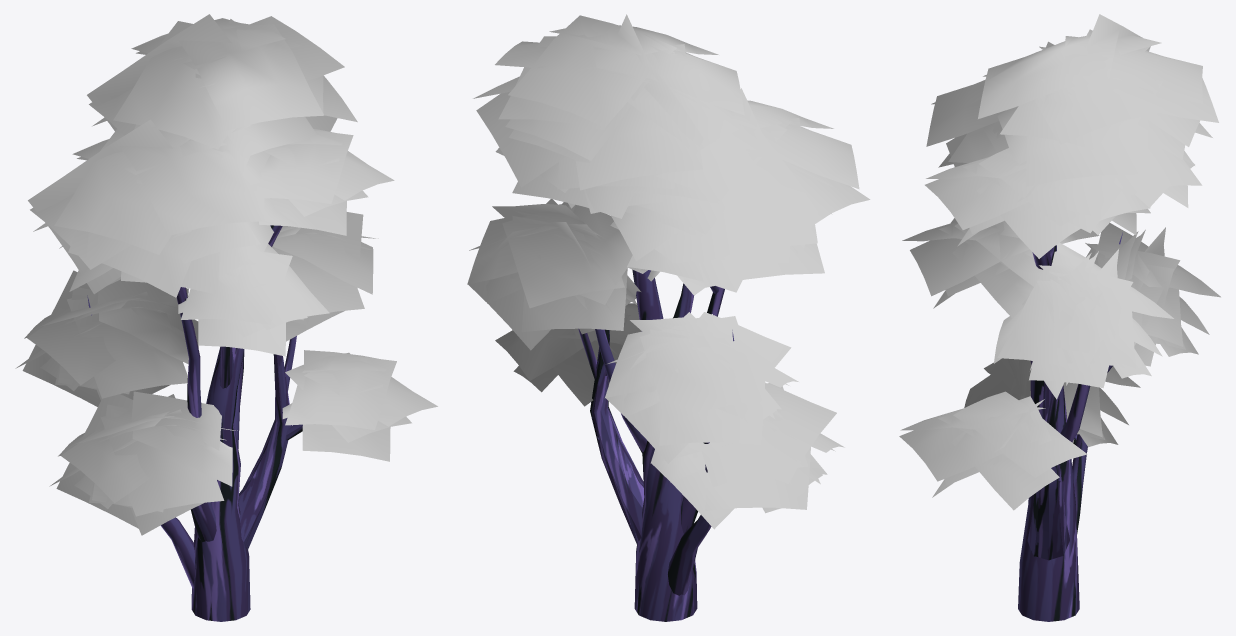
Rendered from Lushtree_01.fbx.
The picture shows the model from 3 angles, left to right: view 1: azimuth 30°, elevation 25°; view 2: azimuth 150°, elevation 25°; view 3: azimuth 270°, elevation 25°; orthographic projection. The views are drawn at different scales.
Visible parts, largest first — view 1: LushTree_01; view 2: LushTree_01; view 3: LushTree_01.
Part boxes in pixels (left/top/right/bottom): LushTree_01: left=15, top=14, right=437, bottom=621; LushTree_01: left=467, top=14, right=870, bottom=621; LushTree_01: left=899, top=14, right=1220, bottom=621.
Size of the model in its own units: 353 by 563 by 274.
